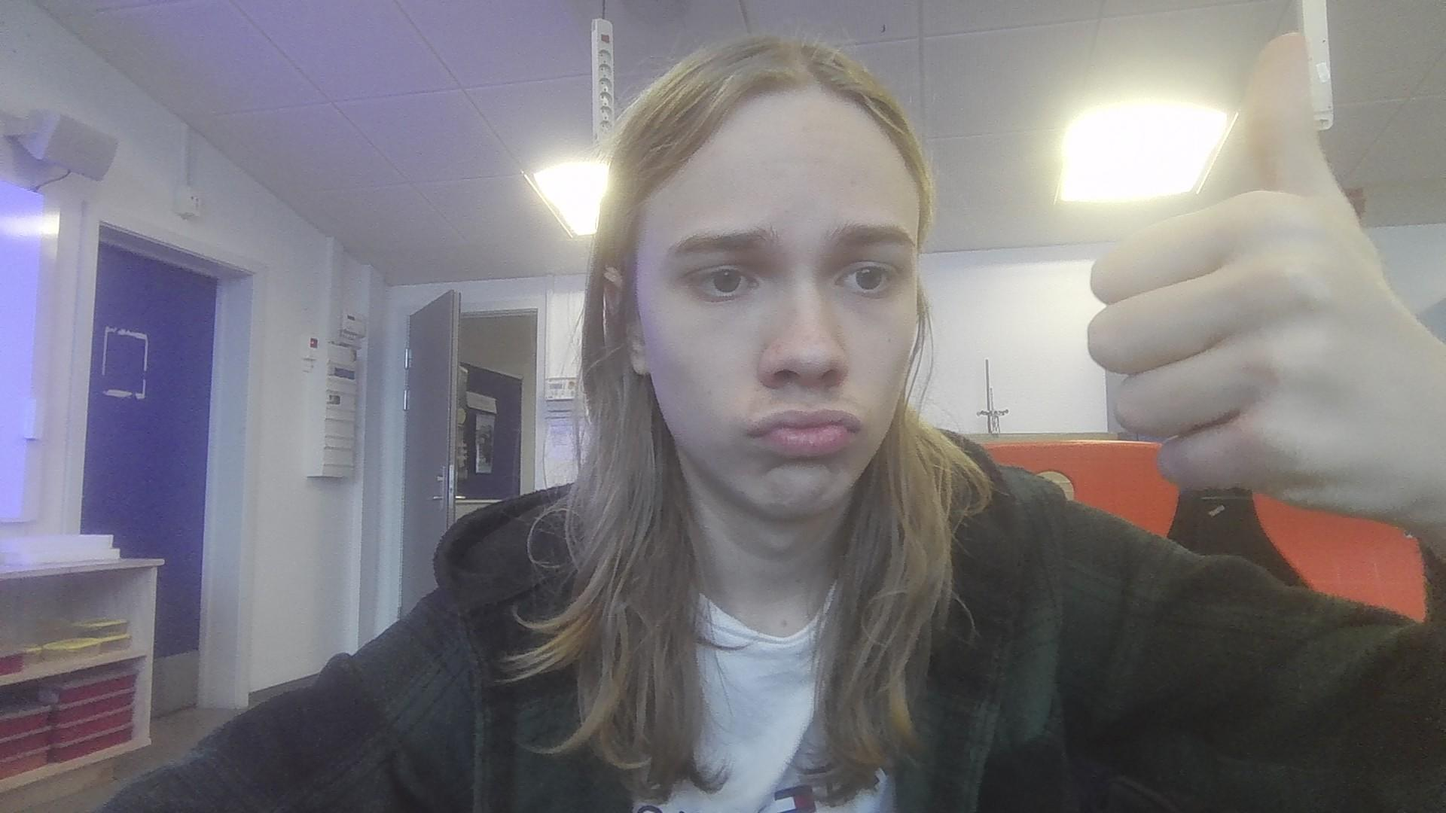thumbs up: (1083, 25, 1446, 544)
